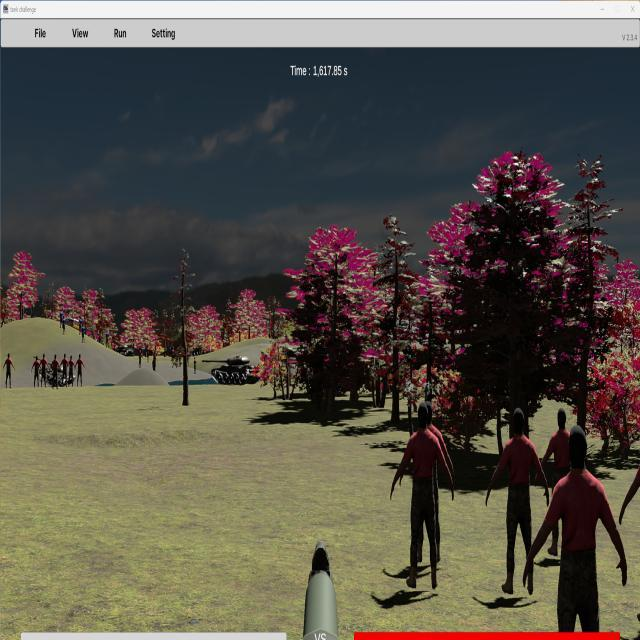Human: (522, 422, 627, 637), (485, 405, 550, 596), (390, 400, 454, 591), (619, 403, 640, 637)
Tank: (201, 354, 259, 385)
